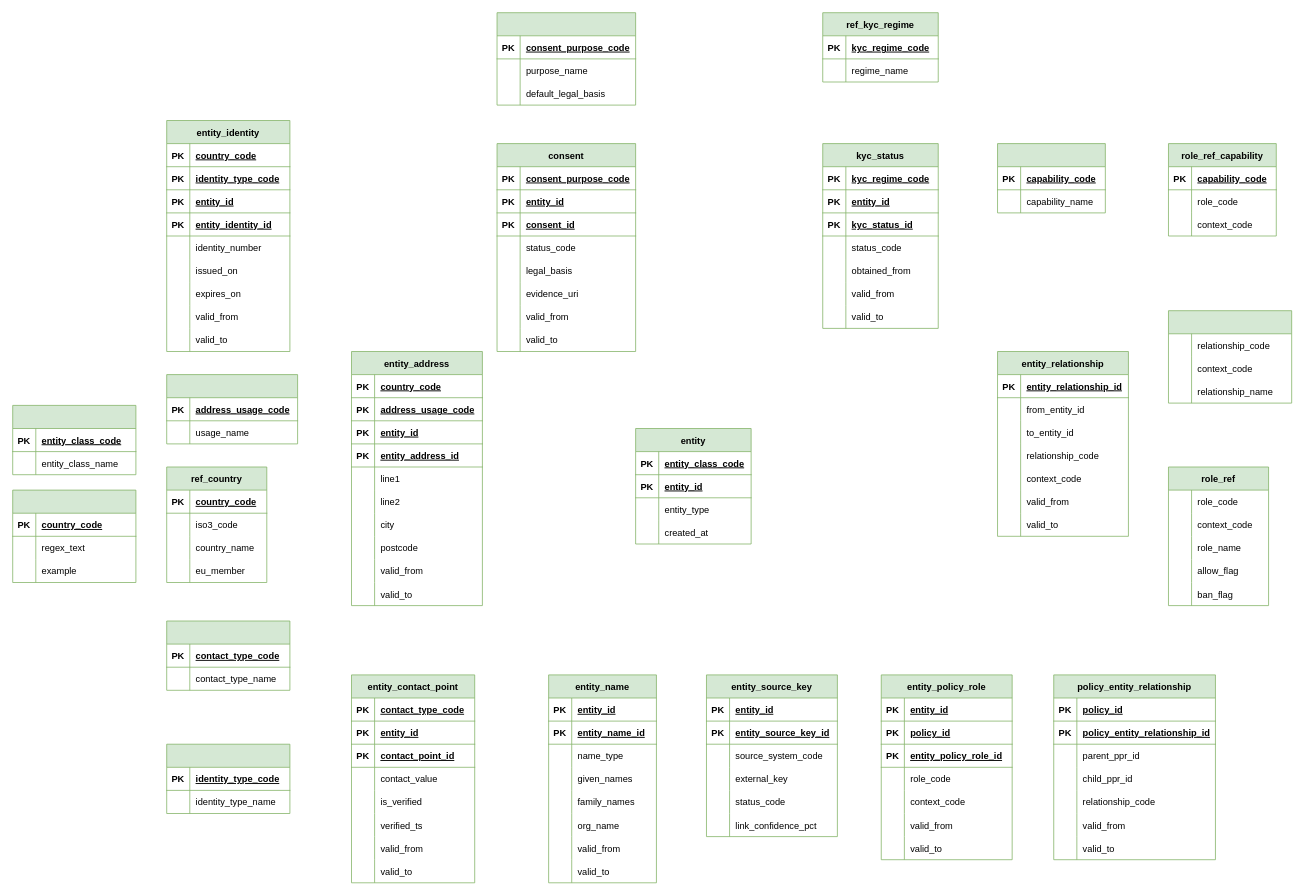
The diagram is 1304 pixels wide and 896 high, and some of its shapes have lost their labels. Each missing label, with the box of its shape:
ref_address_usage: (166, 374, 298, 444)
ref_consent_purpose: (496, 12, 636, 105)
ref_contact_type: (166, 620, 290, 690)
ref_entity_class: (12, 405, 136, 475)
ref_identity_type: (166, 743, 290, 814)
ref_postcode_pattern: (12, 489, 136, 583)
relationship_ref: (1168, 310, 1292, 403)
role_capability: (997, 143, 1105, 213)
